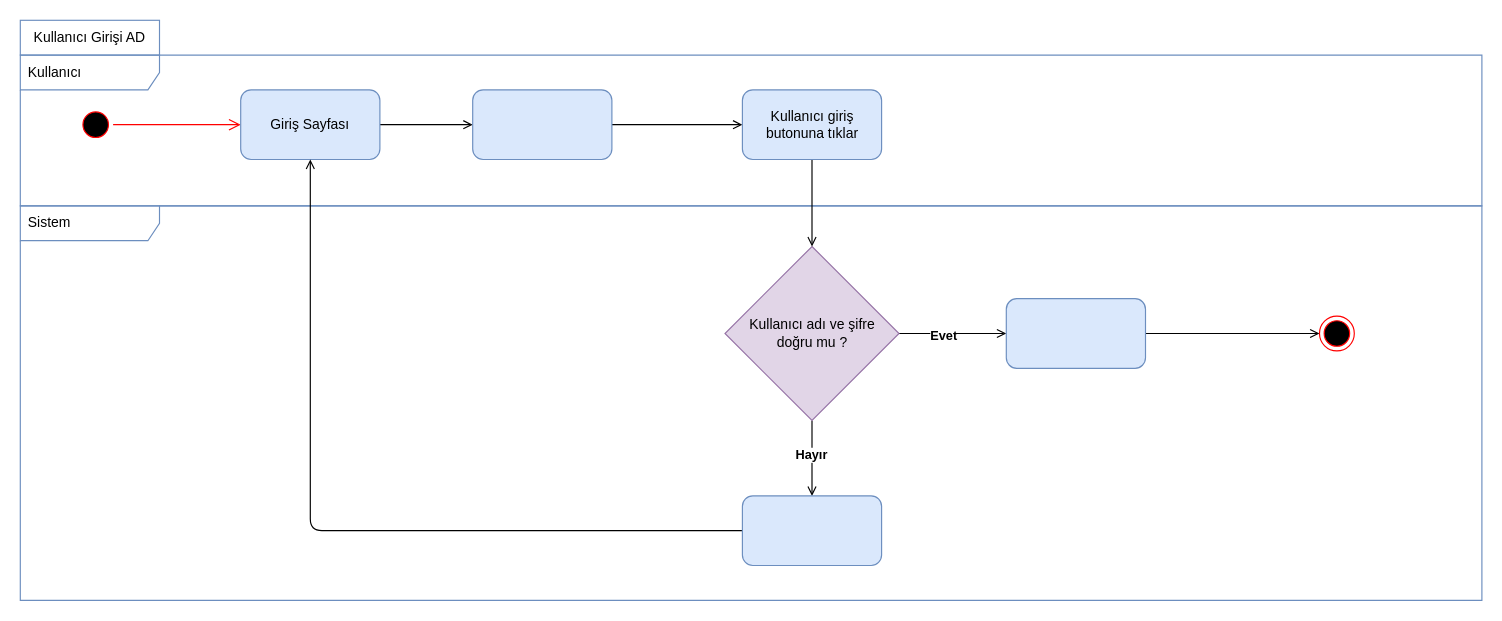
The diagram is 1502 pixels wide and 621 high, and some of its shapes have lost their labels. Each missing label, with the centre of its shape:
"Kullanıcı adı ve şirfre girilir" belongs at pixel 542 124.
"Müşteri arama sayfası açılır" belongs at pixel 1075 333.
"Sistem, kullanıcı adı ve/veya şifre hatalı mesajını verir" belongs at pixel 811 530.
